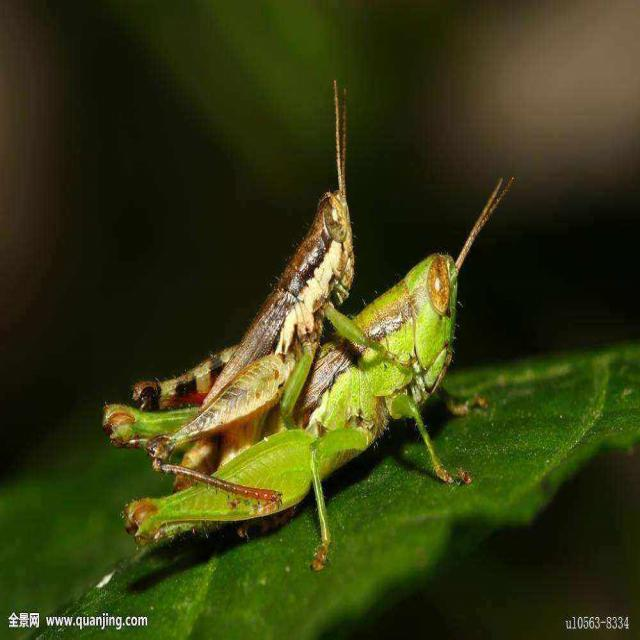ZhaMeng: (117, 156, 538, 591), (110, 62, 362, 485)
